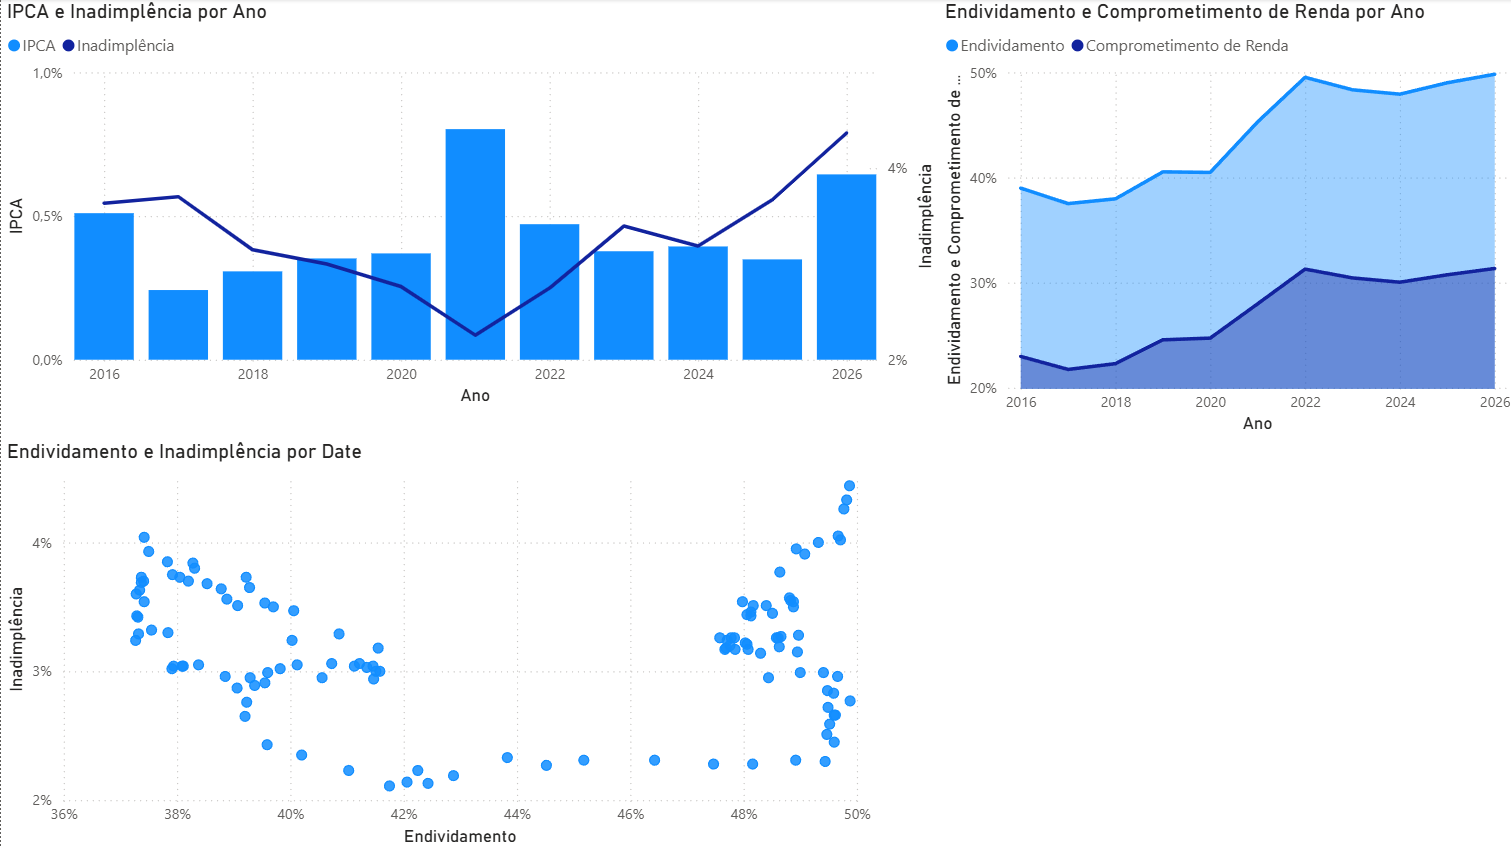

Layout of this report page (visuals, bound fields, positions):
{"tool":"powerbi","page":{"name":"Página 1","canvas":[1280,720],"ordinal":1},"visuals":[{"type":"scatterChart","fields":{"Category":["dCalendario.Date"],"X":["fEndividamento_Brasil.Endividamento"],"Y":["fEndividamento_Brasil.Inadimplência"]},"box":[0,372.1,710.5,347.6],"z":0},{"type":"areaChart","fields":{"Category":["dCalendario.Date.Variation.Hierarquia de datas.Ano","dCalendario.Date.Variation.Hierarquia de datas.Trimestre","dCalendario.Date.Variation.Hierarquia de datas.Mês","dCalendario.Date.Variation.Hierarquia de datas.Dia"],"Y":["fEndividamento_Brasil.Endividamento","fEndividamento_Brasil.Comprometimento de Renda"]},"box":[740,0,540,719.7],"z":1000},{"type":"lineStackedColumnComboChart","fields":{"Y":["fEndividamento_Brasil.IPCA"],"Y2":["fEndividamento_Brasil.Inadimplência"],"Category":["dCalendario.Ano"]},"box":[0,0,710.5,372.1],"z":2000}]}

Visuals, with their boxes in screenshot pixels (x1, y1, x2, y2), scaled from the page's 1280x720 canvas onto the 1511x846 screenshot:
scatterChart - dCalendario.Date x fEndividamento_Brasil.Endividamento: 0,437,839,845
areaChart - dCalendario.Date.Variation.Hierarquia de datas.Ano x dCalendario.Date.Variation.Hierarquia de datas.Trimestre: 874,0,1510,845
lineStackedColumnComboChart - fEndividamento_Brasil.IPCA x fEndividamento_Brasil.Inadimplência: 0,0,839,437
